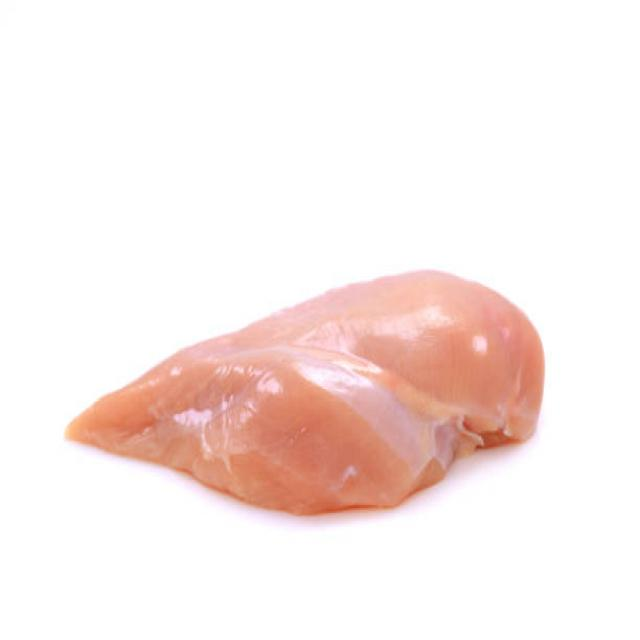chicken breast: (64, 190, 637, 573)
